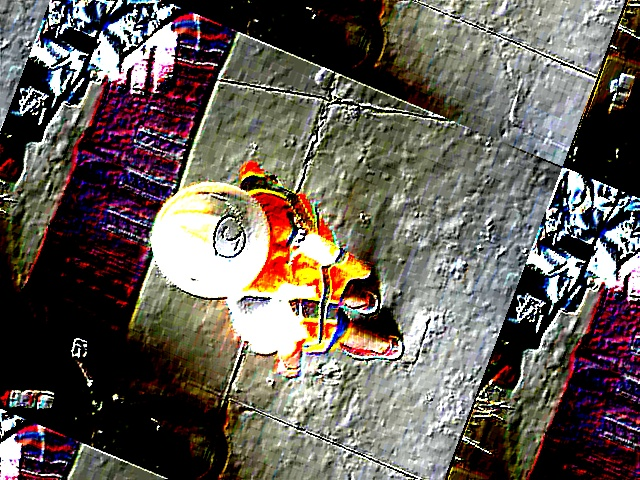two: (206, 211, 252, 263)
